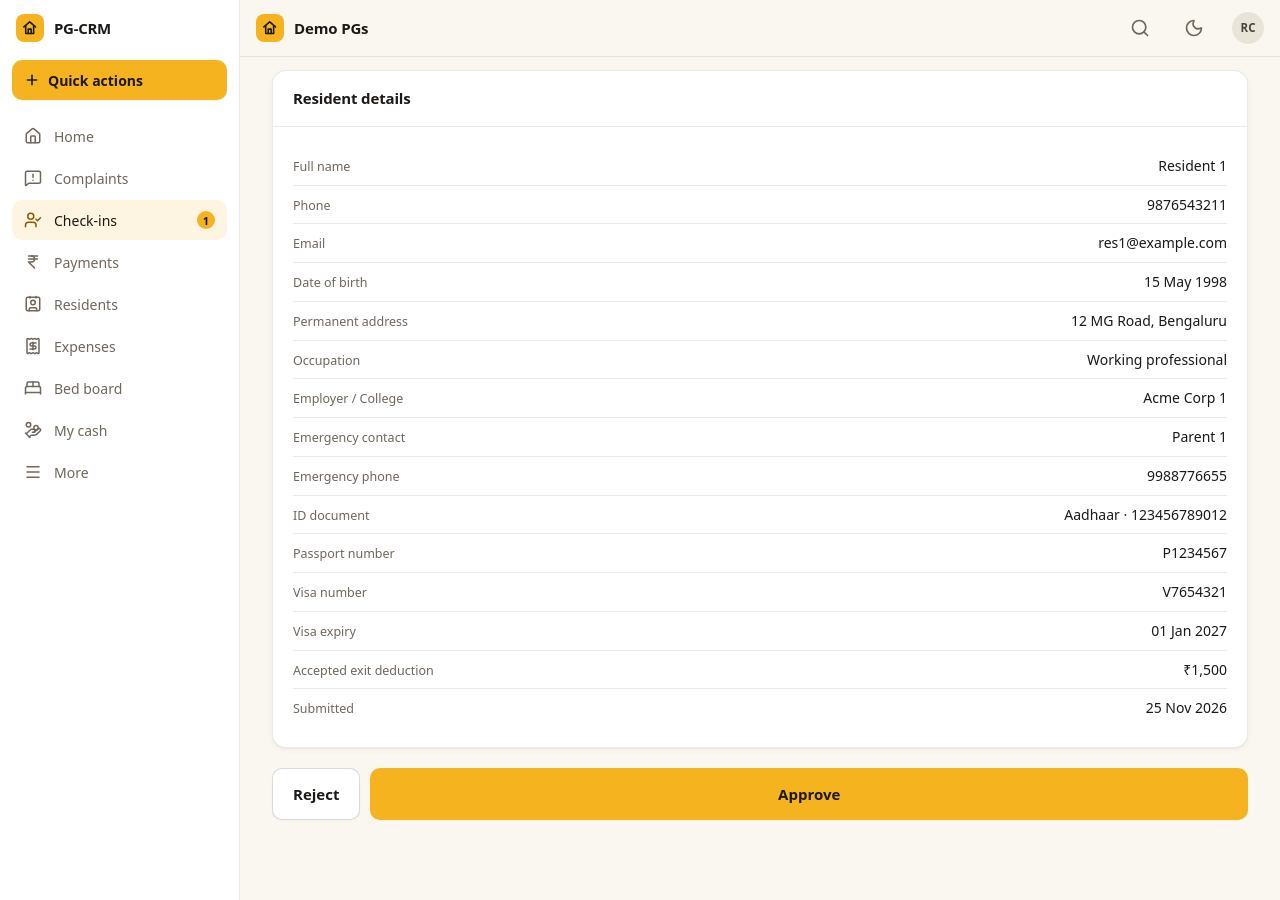
it: FE-21 Caretaker check-in approval flow › [FE-21/AC4] rent below floor swaps Approve for Request discount; after owner approves, approval works with discount_request_id
The image size is (1280, 900).
(page scrolled)
Click the button "Approve" at point(809, 794), box [370,768,1248,820]
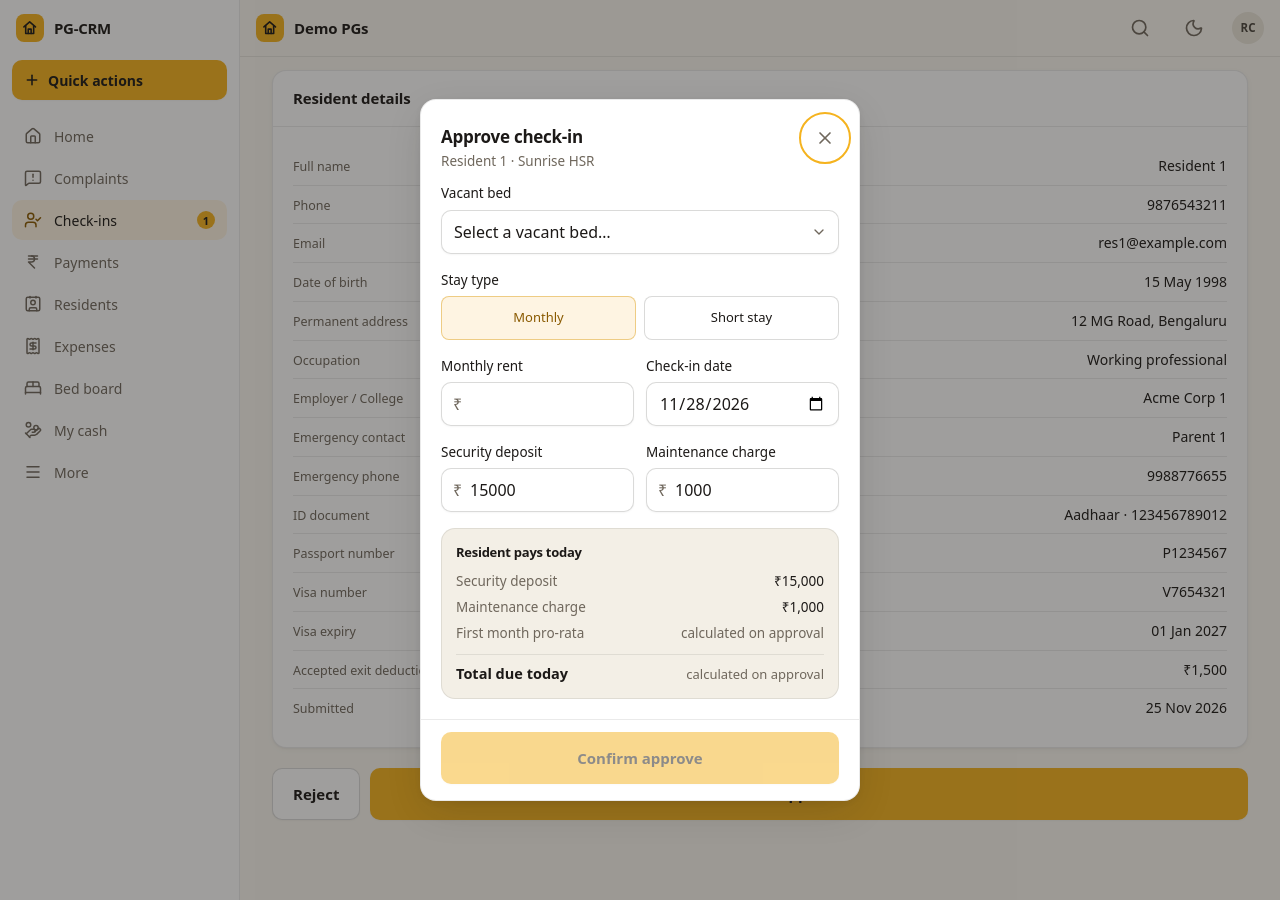
Select "101-A — ₹10,500/mo" in the dropdown labelled "Vacant bed" at point(640, 232), box [441,210,839,254]
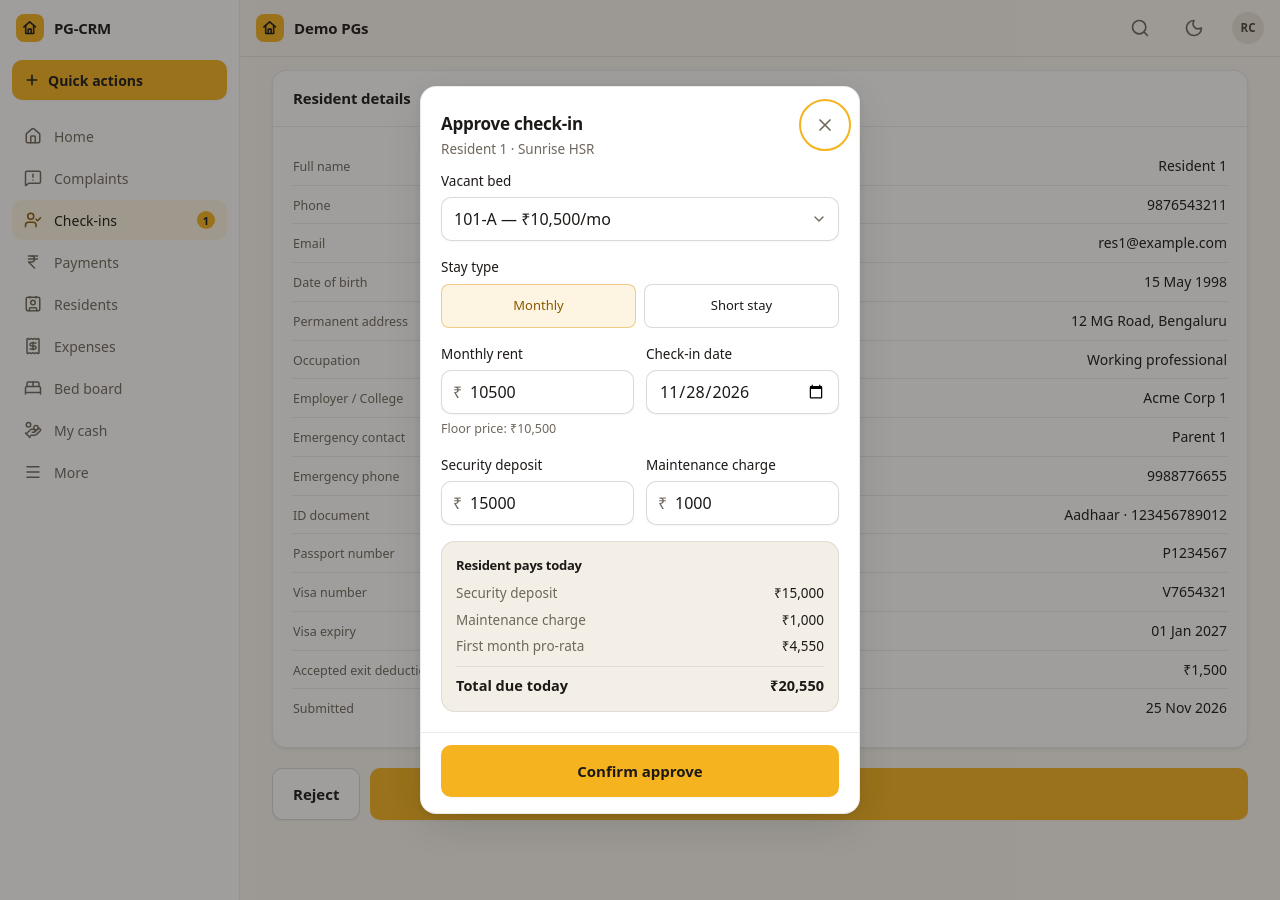
Replace the text in the field labelled "Monthly rent" with "9500" at point(538, 392), box [441,370,634,414]
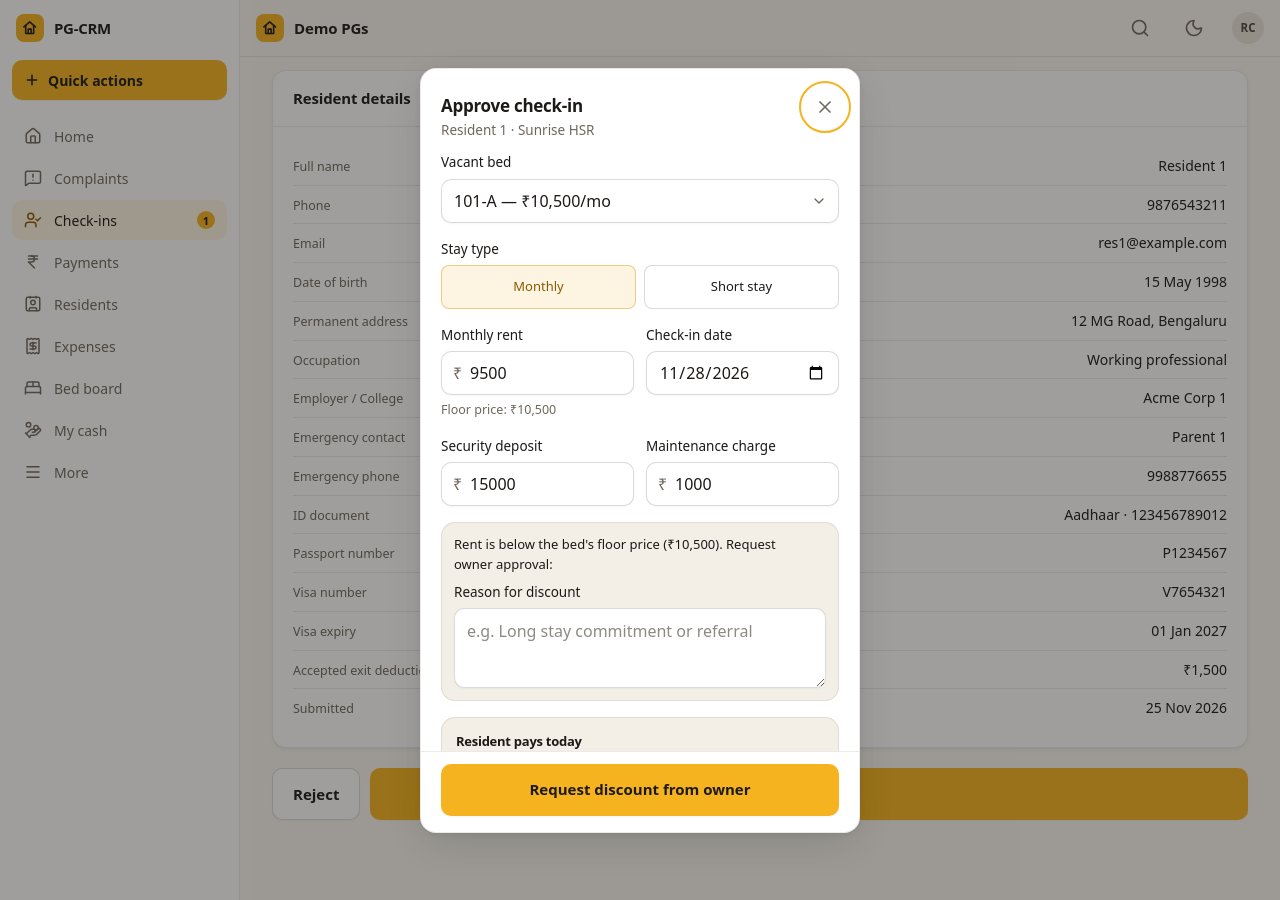
Expected: the button "Confirm approve" is gone
Type "12-month stay" into the text box labelled "Reason for discount" at point(640, 648), box [454,608,826,688]
Click the button "Request discount from owner" at point(640, 790), box [441,764,839,816]
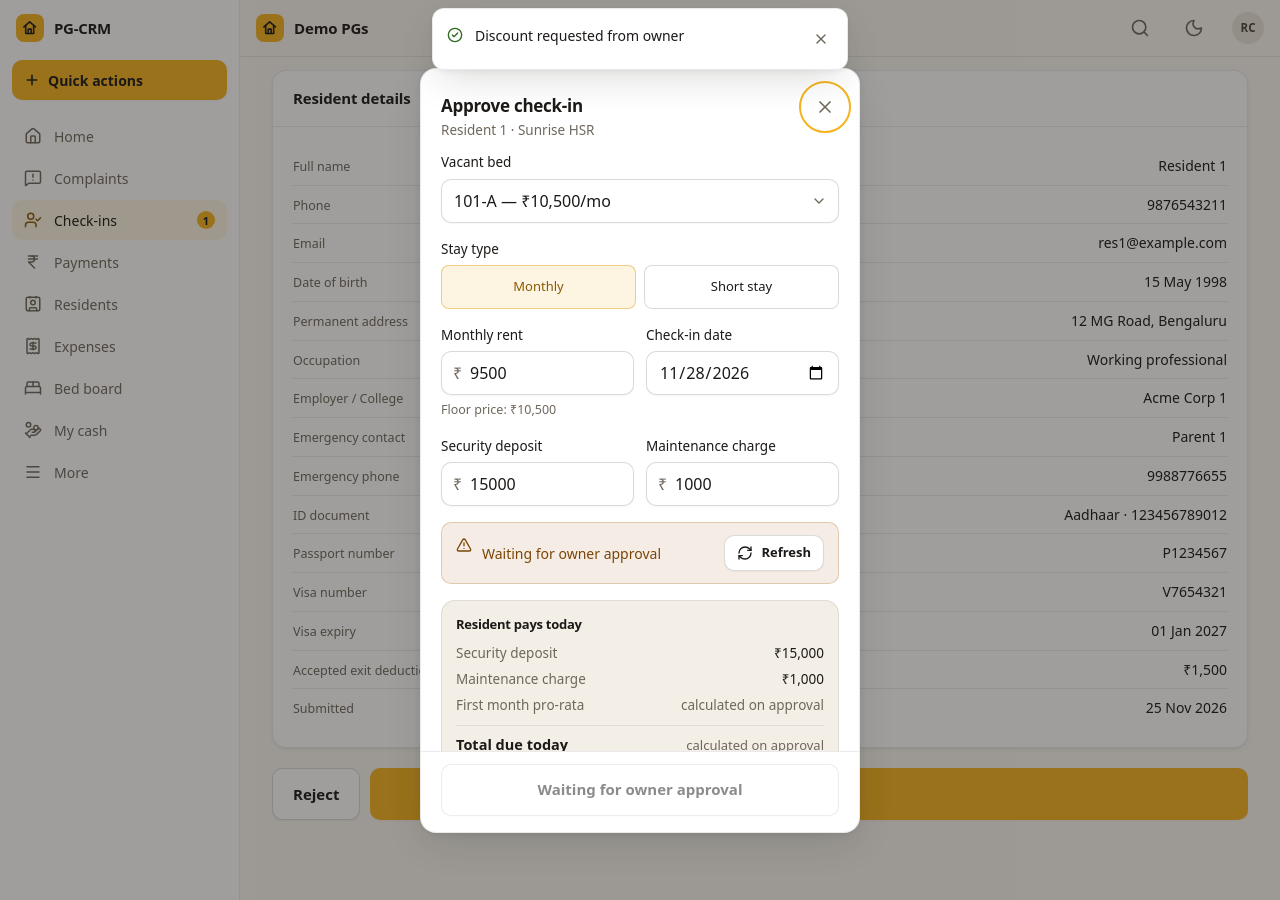
Expected: the button "Waiting for owner approval" is disabled, [441,764,839,816]
Click the button "Refresh" at point(774, 553), box [724,535,824,571]
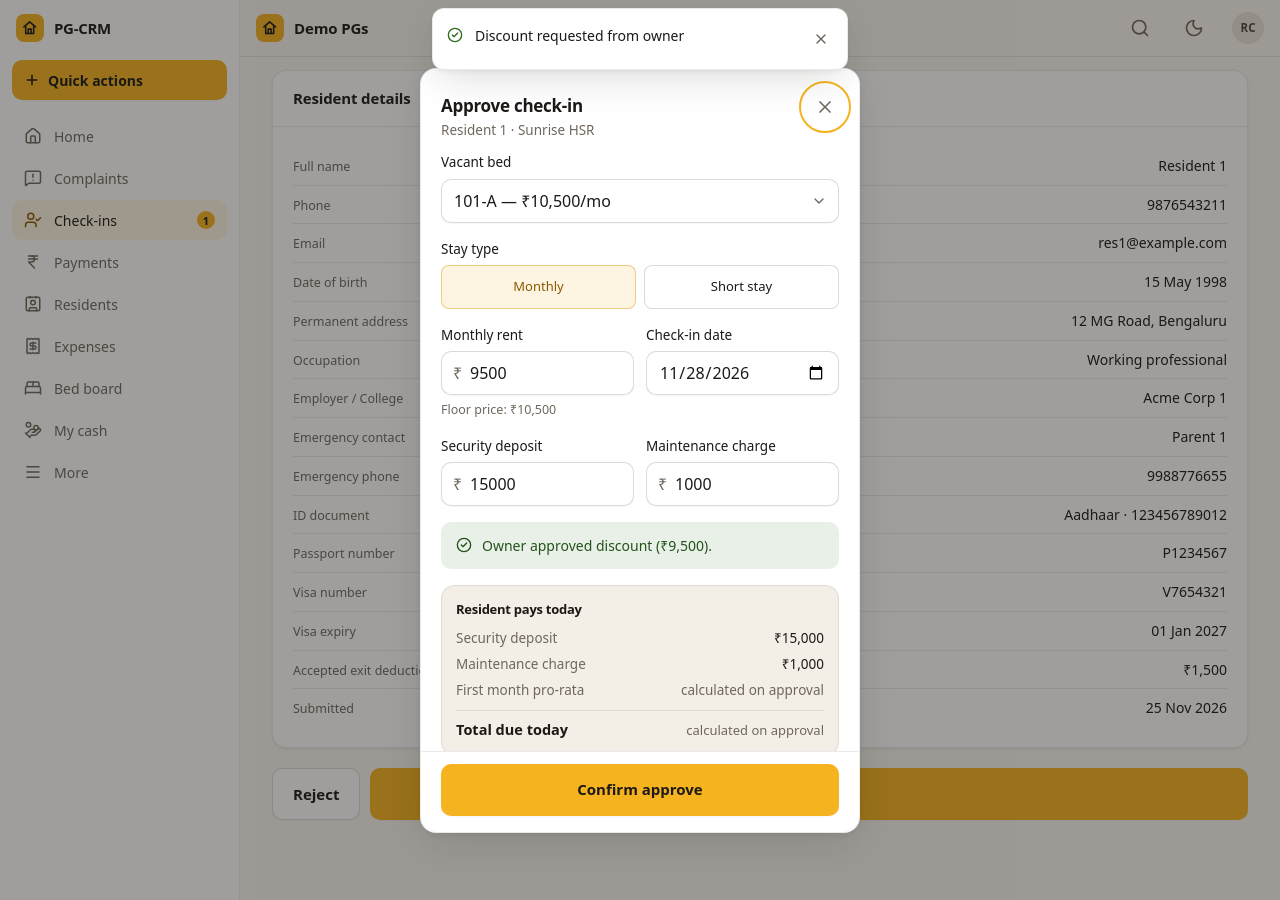
Click the button "Confirm approve" at point(640, 790), box [441,764,839,816]
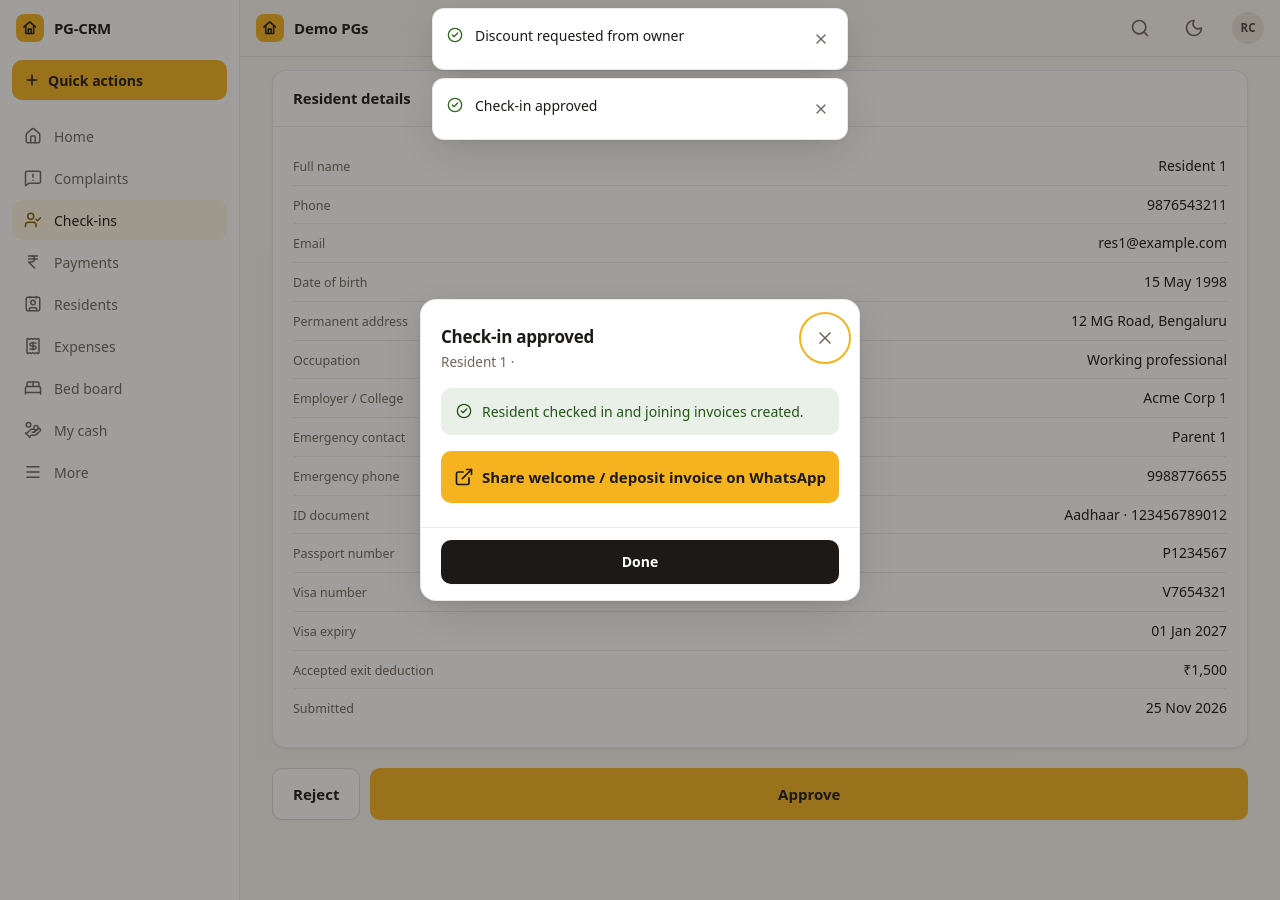
Expected: the link "Share welcome / deposit invoice on WhatsApp" is shown, [441,451,839,503]
